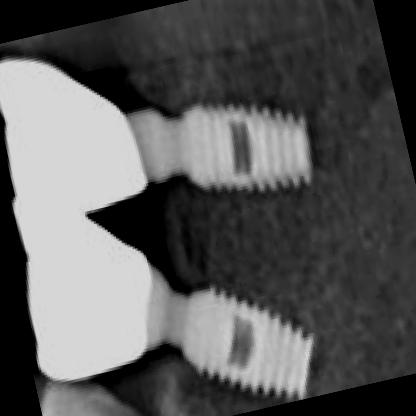Bicon: (157, 257, 336, 415), (158, 74, 324, 222)
